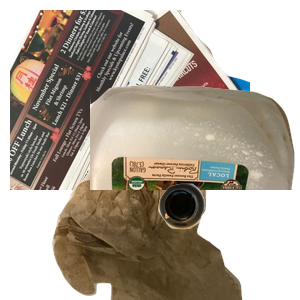glass: (156, 181, 300, 300)
paper: (10, 10, 250, 190)
plastic: (90, 82, 300, 262)
trash: (50, 120, 285, 300)
